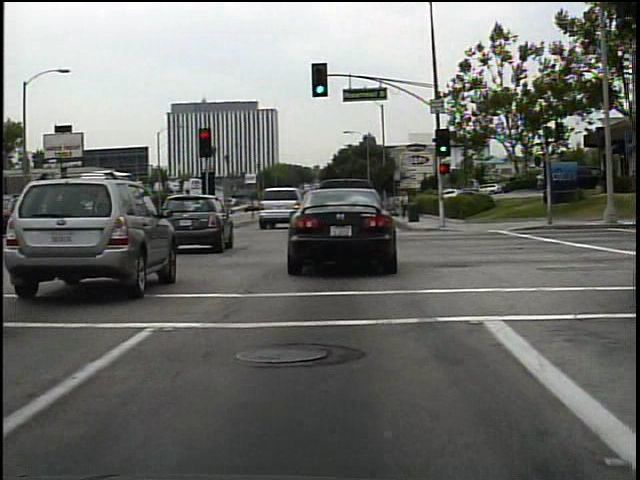person: (398, 190, 410, 221)
